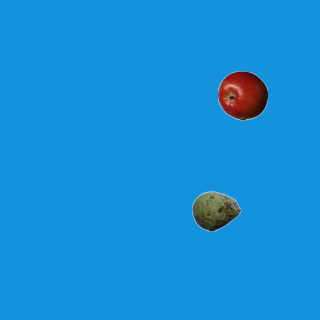Apple Braeburn: (217, 70, 267, 120)
Pear Stone: (191, 186, 241, 236)
